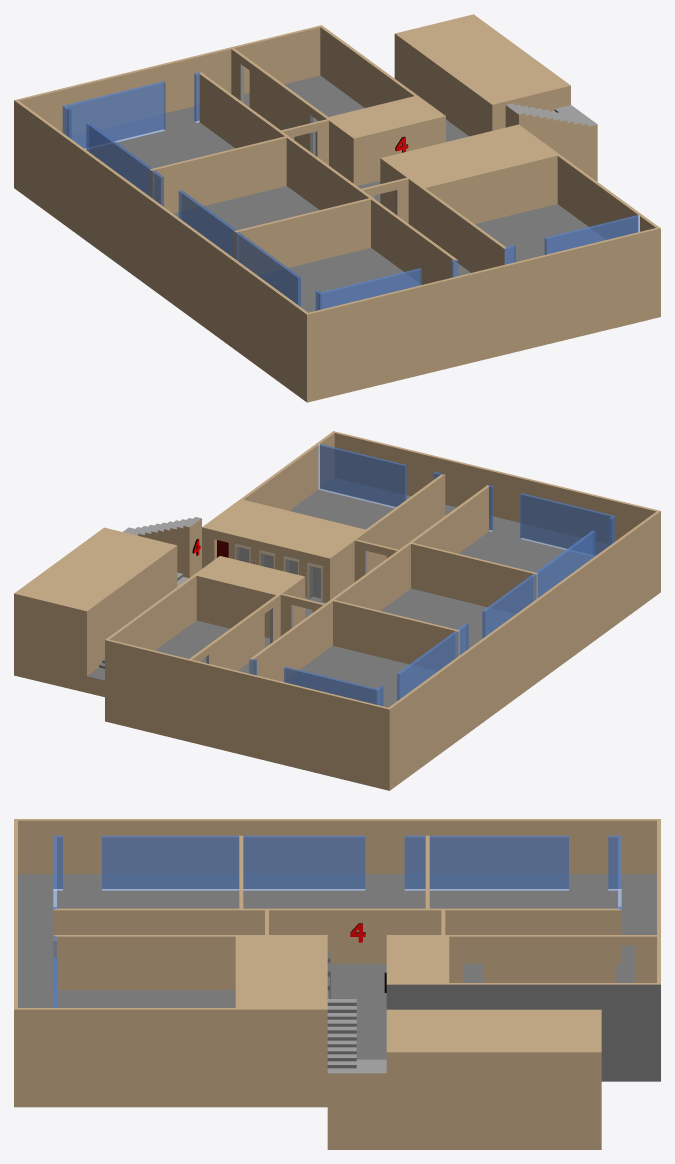
File: 4F-coloredNhan.gltf
3 renders of one model, top to bottom at view 1: azimuth 30°, elevation 25°; view 2: azimuth 150°, elevation 25°; view 3: azimuth 270°, elevation 25°, orthographic. The views are drawn at different scales.
Parts seen in each view (by area): view 1: root; view 2: root; view 3: root.
Boxes of the visible parts, <box> form: root: <box>14,14,660,402</box>; root: <box>14,431,660,790</box>; root: <box>14,819,660,1149</box>.
Bounding box in the file's own units: 28.13 × 6.11 × 33.
